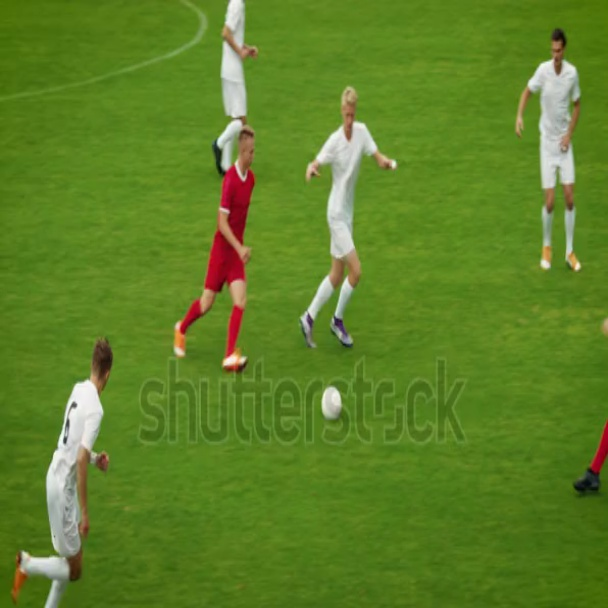ball: (316, 380, 347, 428)
